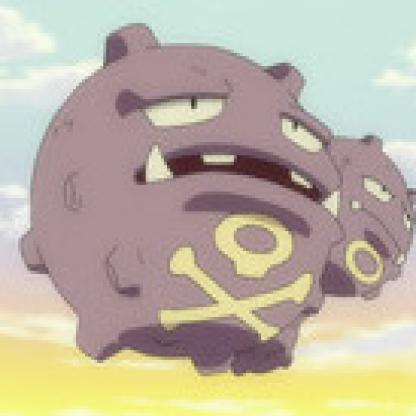Weezing: (40, 35, 412, 372)
